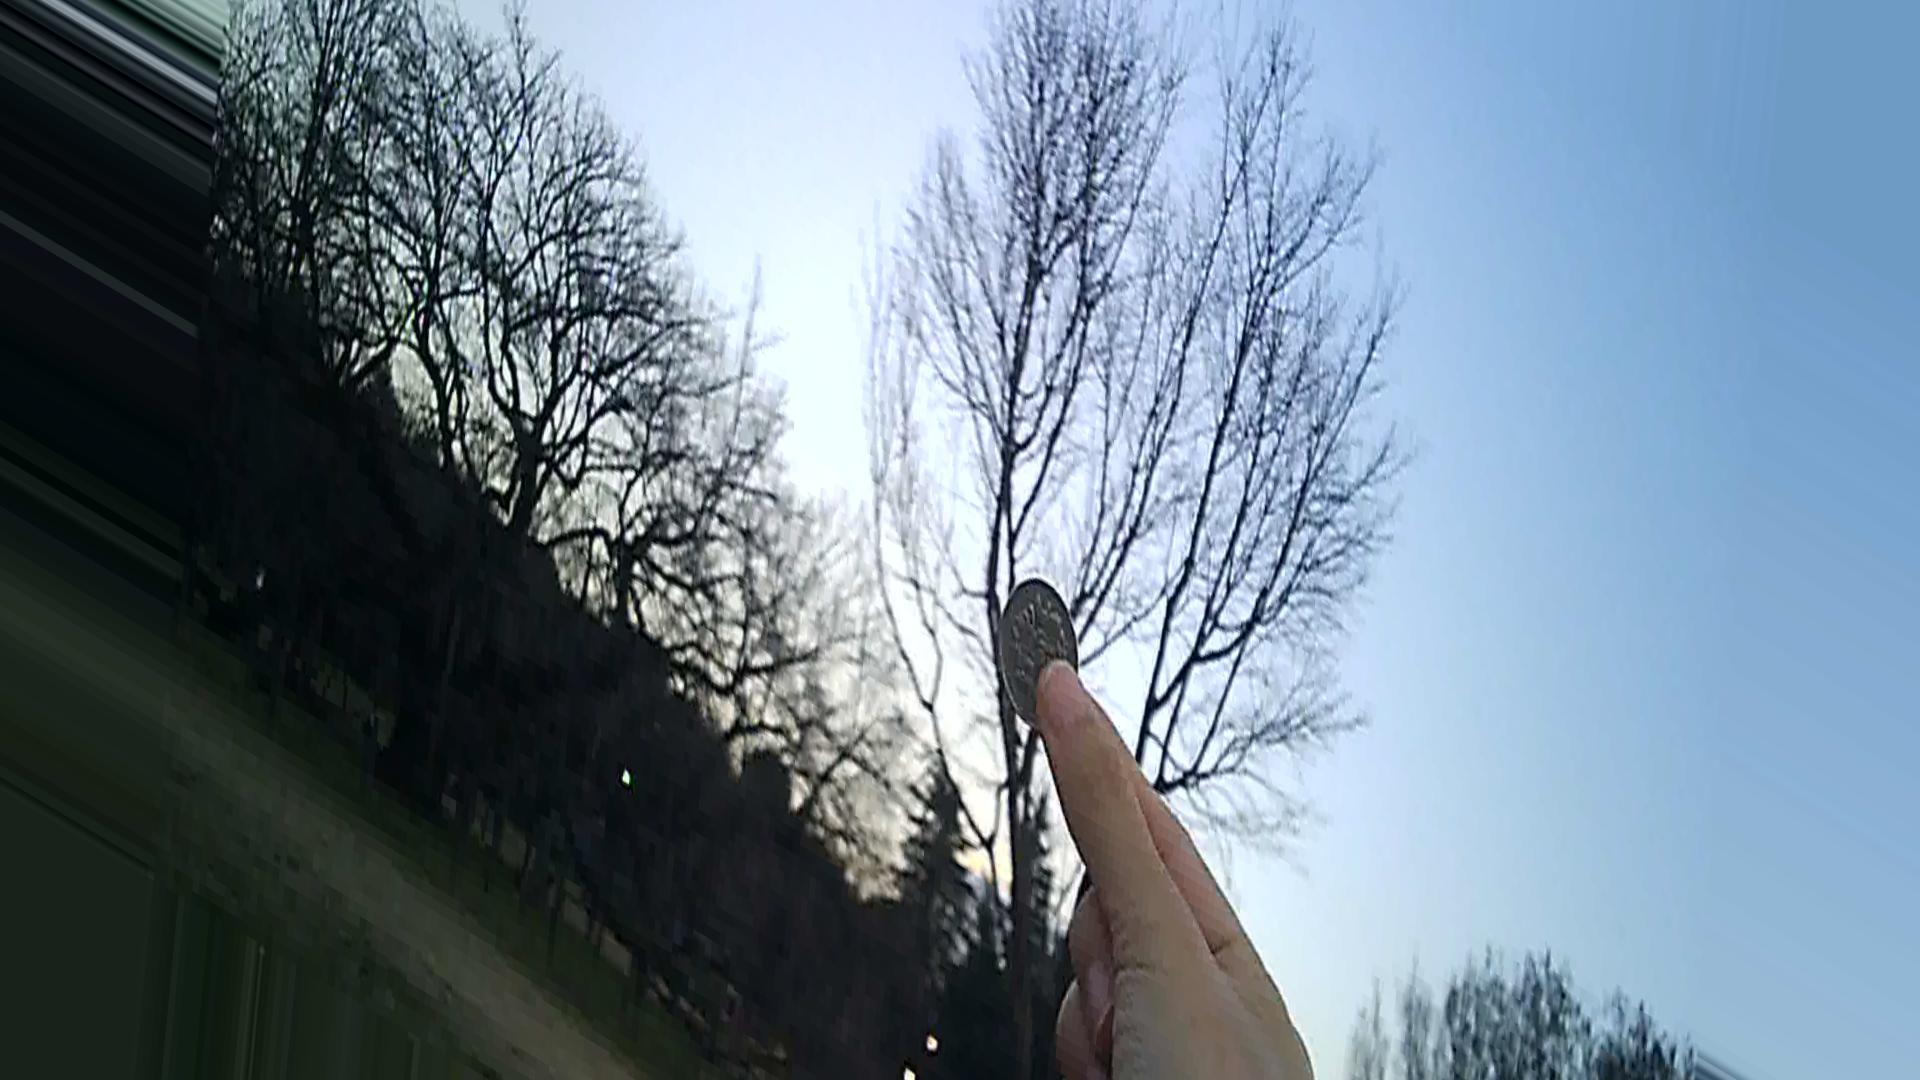100 Yen: (992, 570, 1075, 717)
